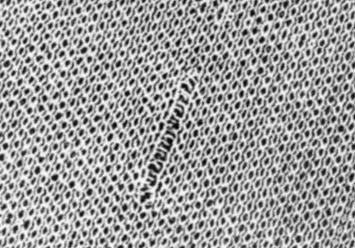slub: (131, 66, 198, 212)
